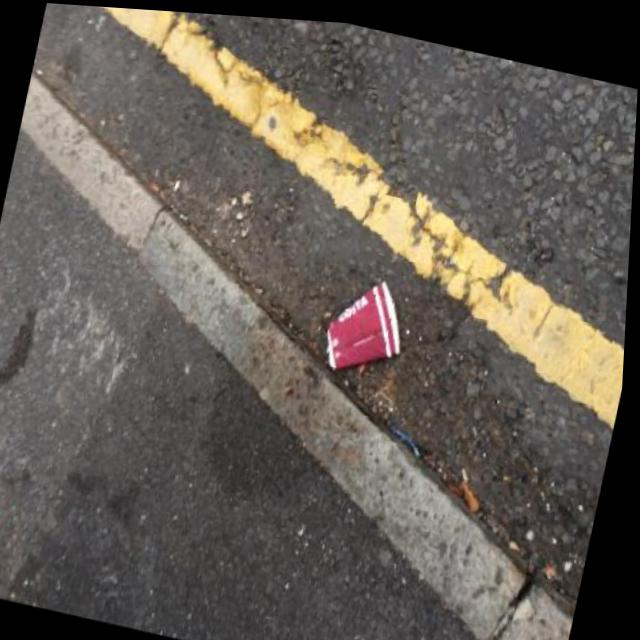cardboard: (317, 270, 414, 385)
